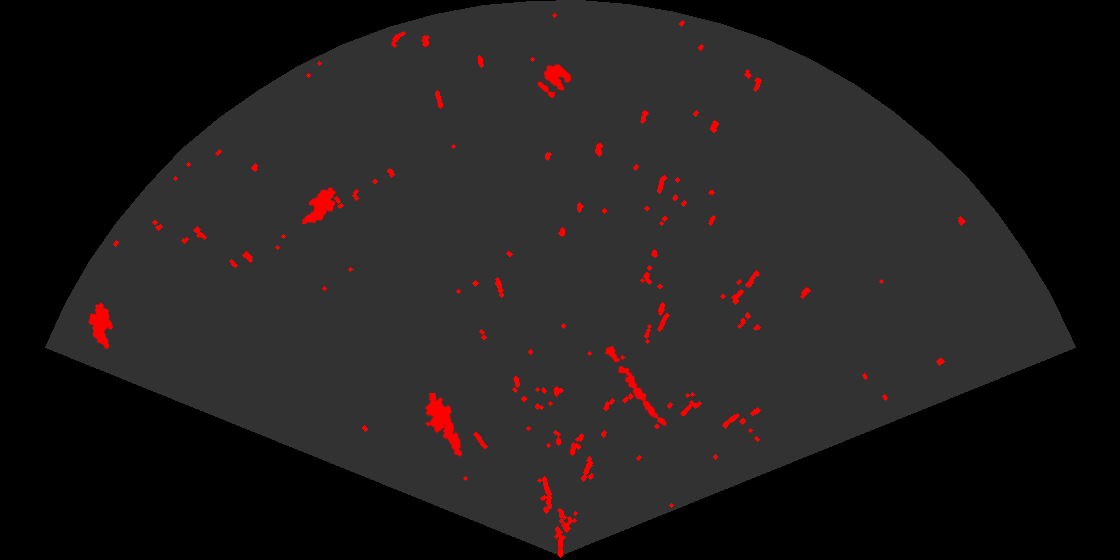AUV: (300, 186, 337, 226), (87, 301, 115, 351)
ball: (536, 63, 573, 100)
chain: (603, 344, 668, 428)
frogman: (423, 393, 464, 458)
